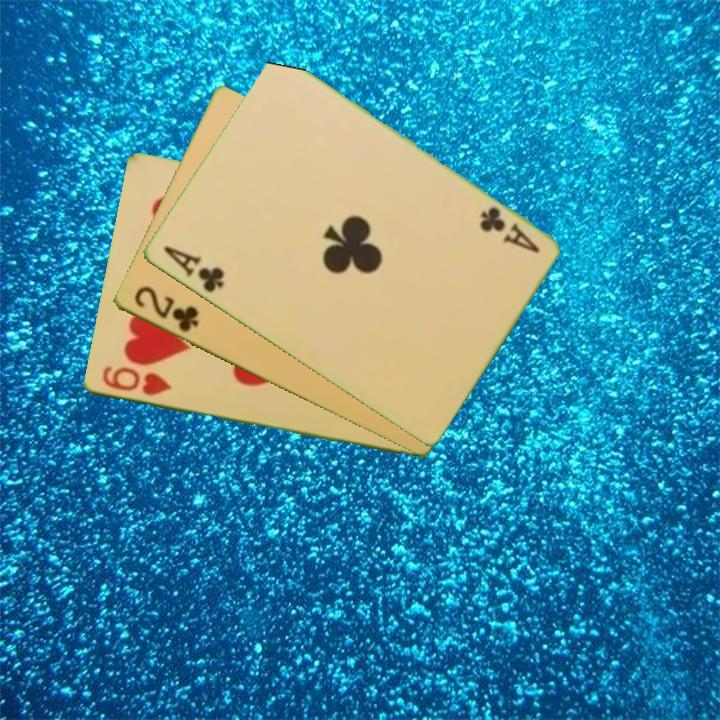2c: (130, 282, 202, 336)
6h: (98, 363, 174, 399)
Ac: (159, 242, 227, 296), (475, 203, 542, 257)
